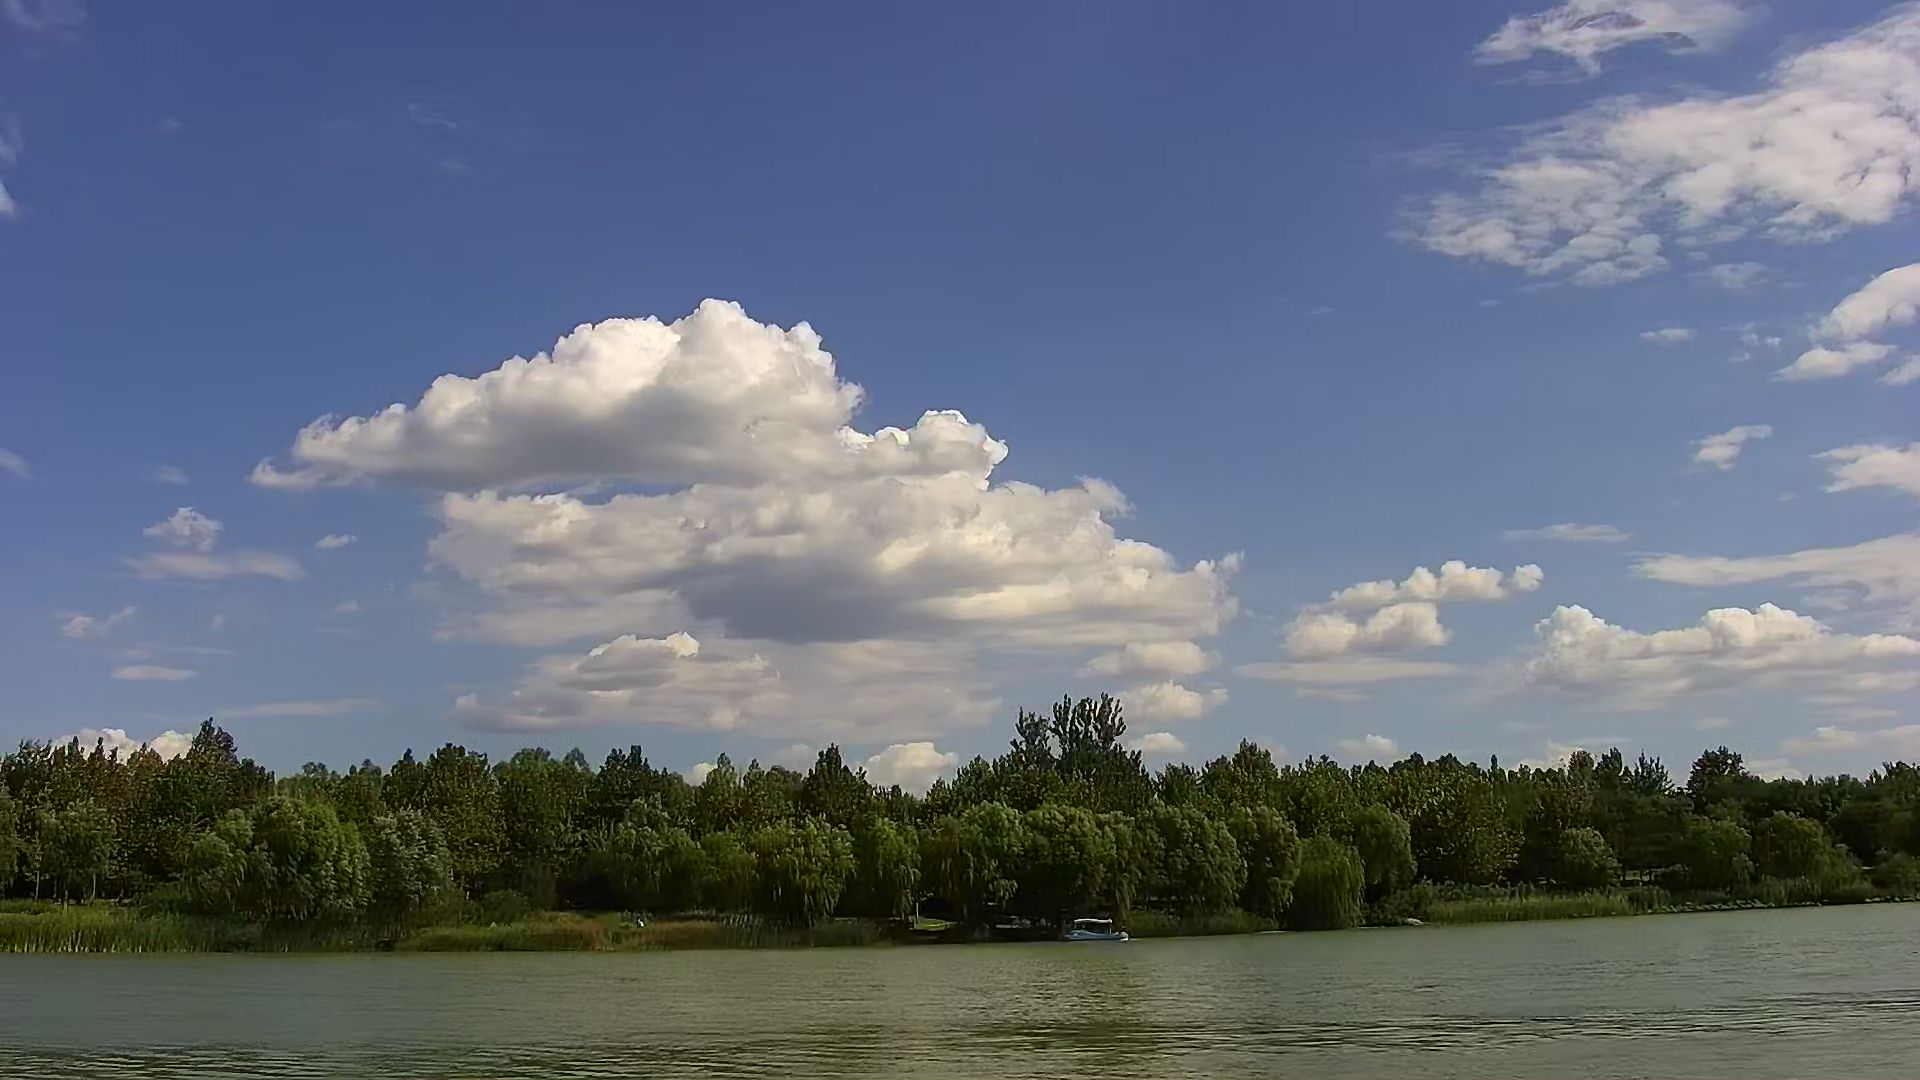boat: (1058, 913, 1130, 944)
